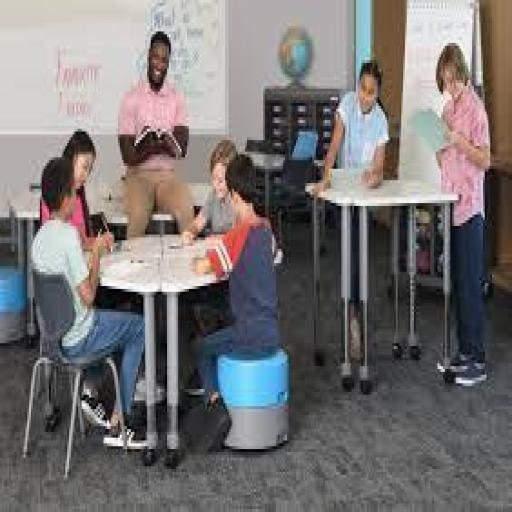chair: (17, 262, 130, 482), (199, 336, 302, 471)
